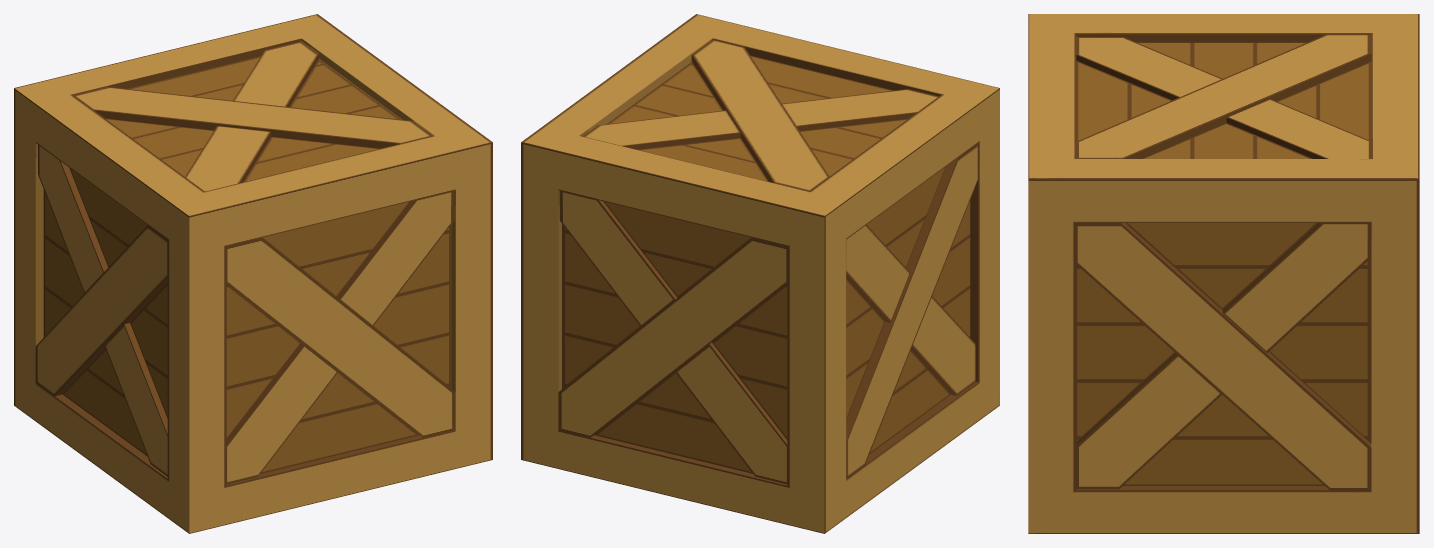
The picture shows the model from 3 angles, left to right: view 1: azimuth 30°, elevation 25°; view 2: azimuth 150°, elevation 25°; view 3: azimuth 270°, elevation 25°; orthographic projection. The views are drawn at different scales.
Visible parts, largest first — view 1: Cube.004; view 2: Cube.004; view 3: Cube.004.
Boxes of the visible parts, x1,y1,x2,y2 form: Cube.004: (14,14,492,533); Cube.004: (521,14,999,533); Cube.004: (1028,14,1419,533).
Bounding box in the file's own units: 194 × 194 × 194.
Materials: 1 (1 with a texture image).
